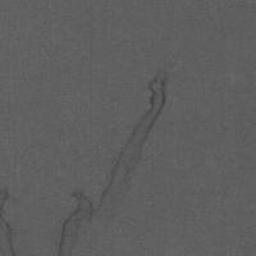Water spot: (55, 68, 169, 256), (0, 180, 23, 256)
